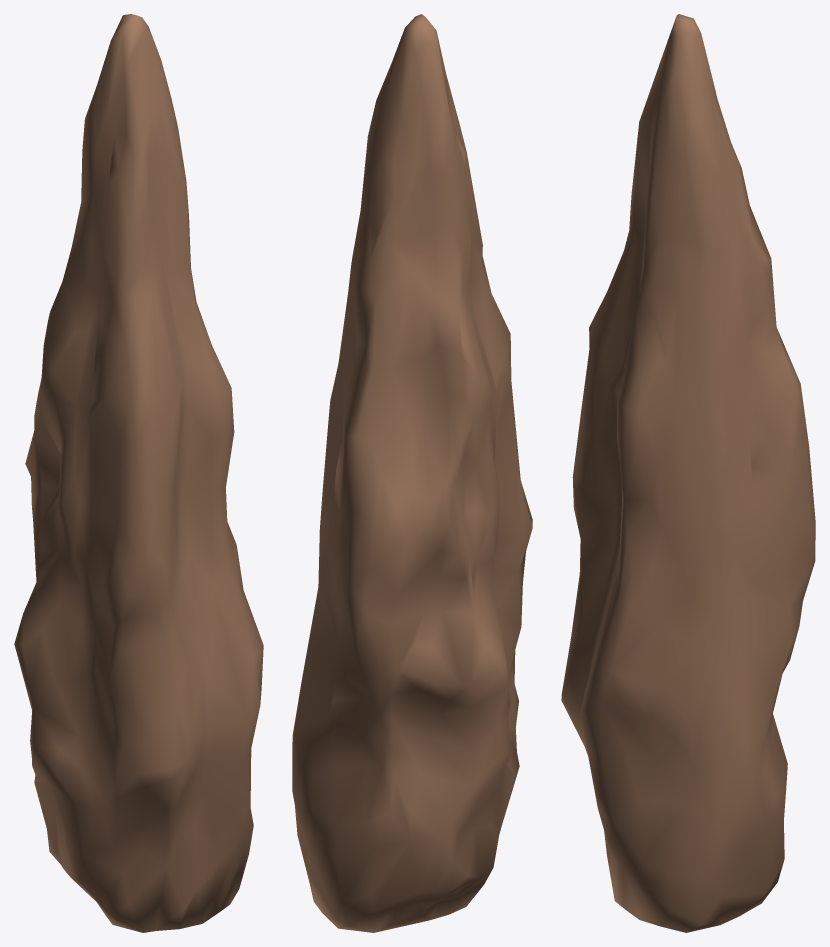
File: termite_1.glb
The picture shows the model from 3 angles, left to right: view 1: azimuth 30°, elevation 25°; view 2: azimuth 150°, elevation 25°; view 3: azimuth 270°, elevation 25°; orthographic projection. The views are drawn at different scales.
Parts seen in each view (by area): view 1: termite_1; view 2: termite_1; view 3: termite_1.
Boxes of the visible parts, left/top/right/bottom form: termite_1: left=14, top=14, right=263, bottom=932; termite_1: left=292, top=14, right=532, bottom=932; termite_1: left=561, top=14, right=815, bottom=932.
Size of the model in its own units: 0.249 by 1 by 0.2651.
